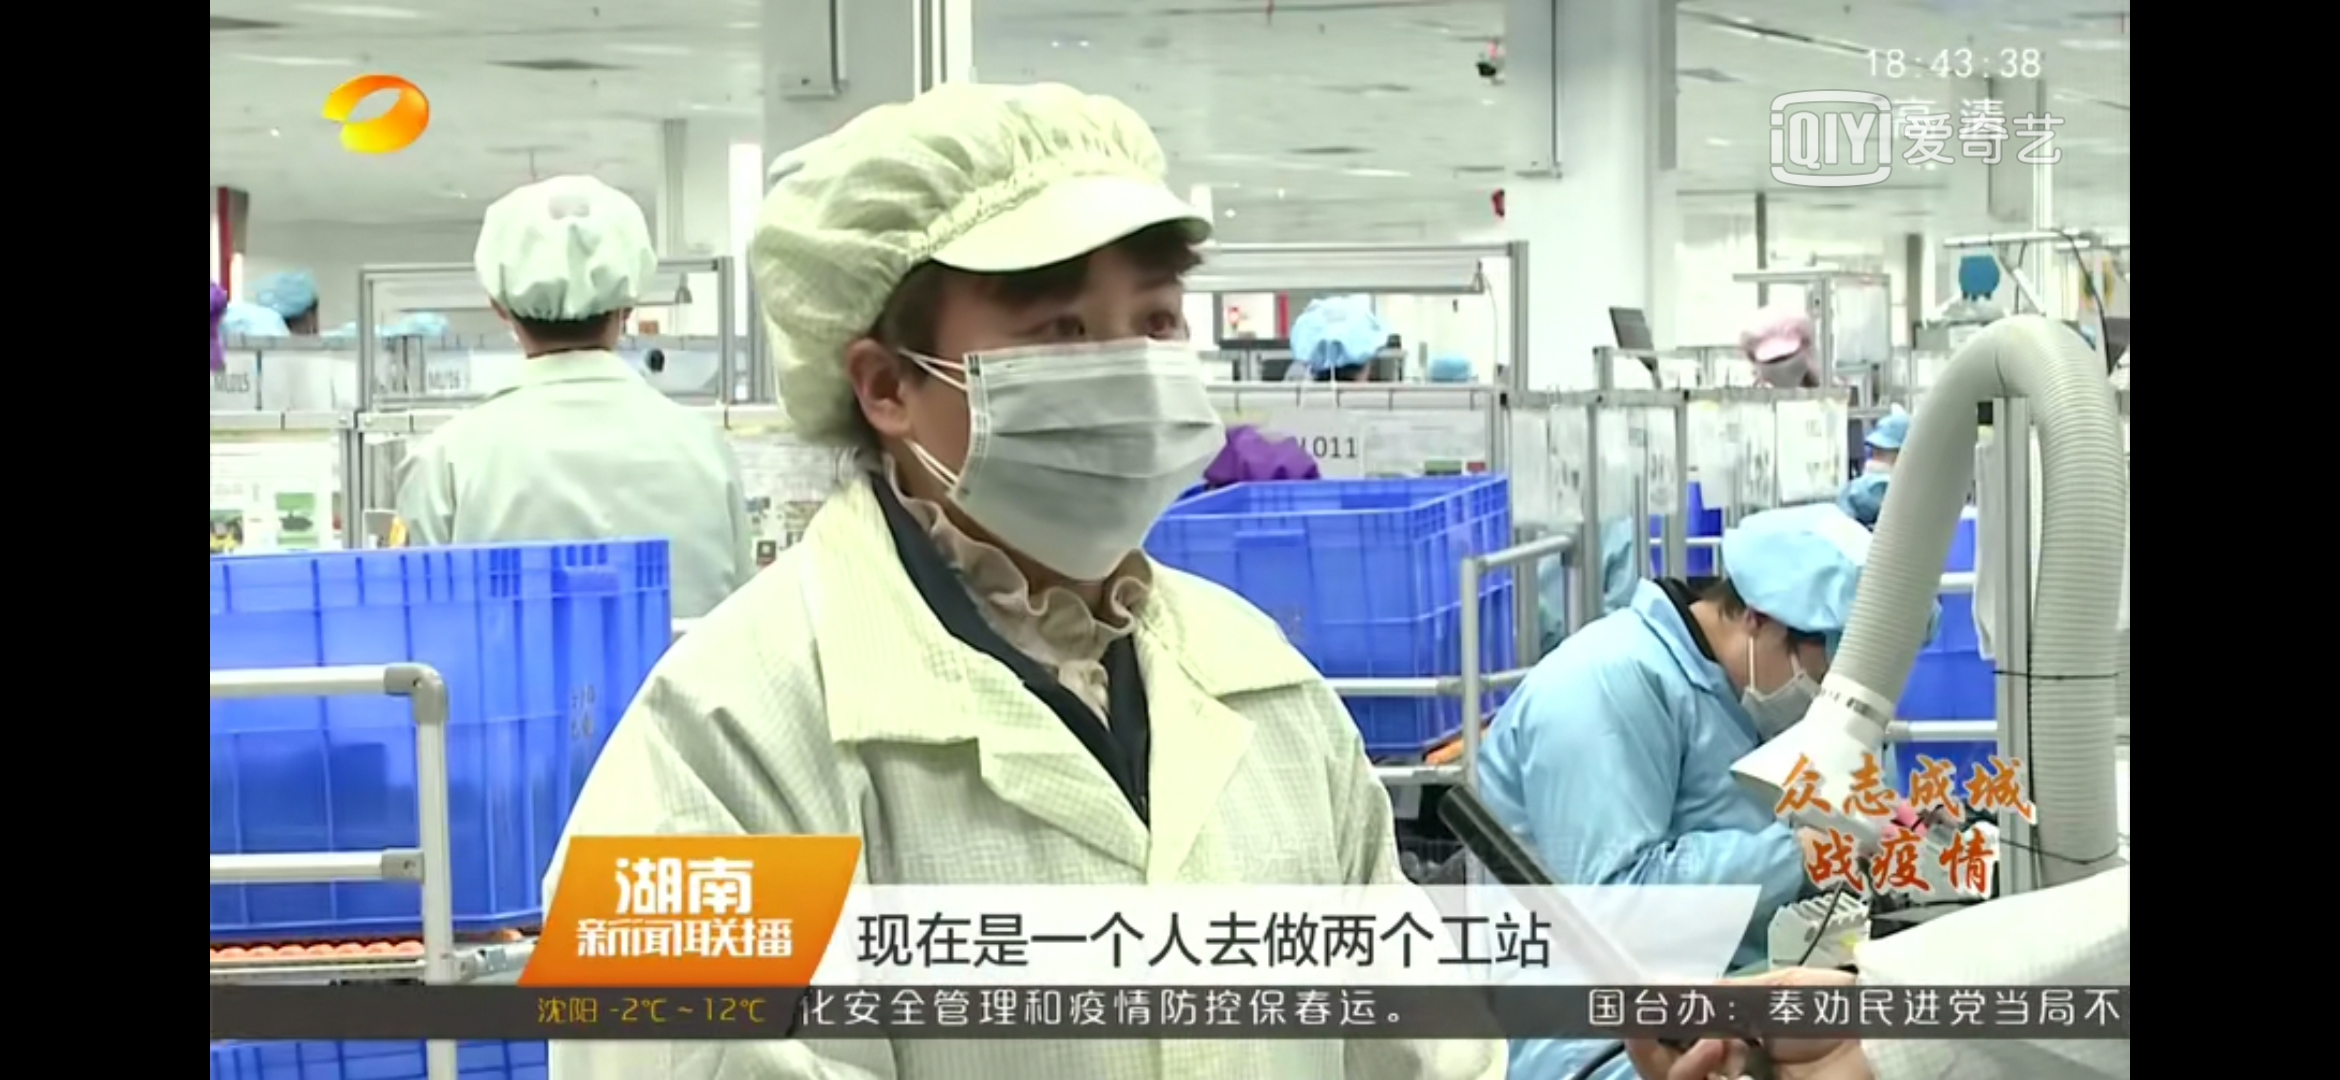correctlyWear: (851, 270, 1206, 579), (1706, 592, 1833, 728), (1751, 337, 1813, 388)
